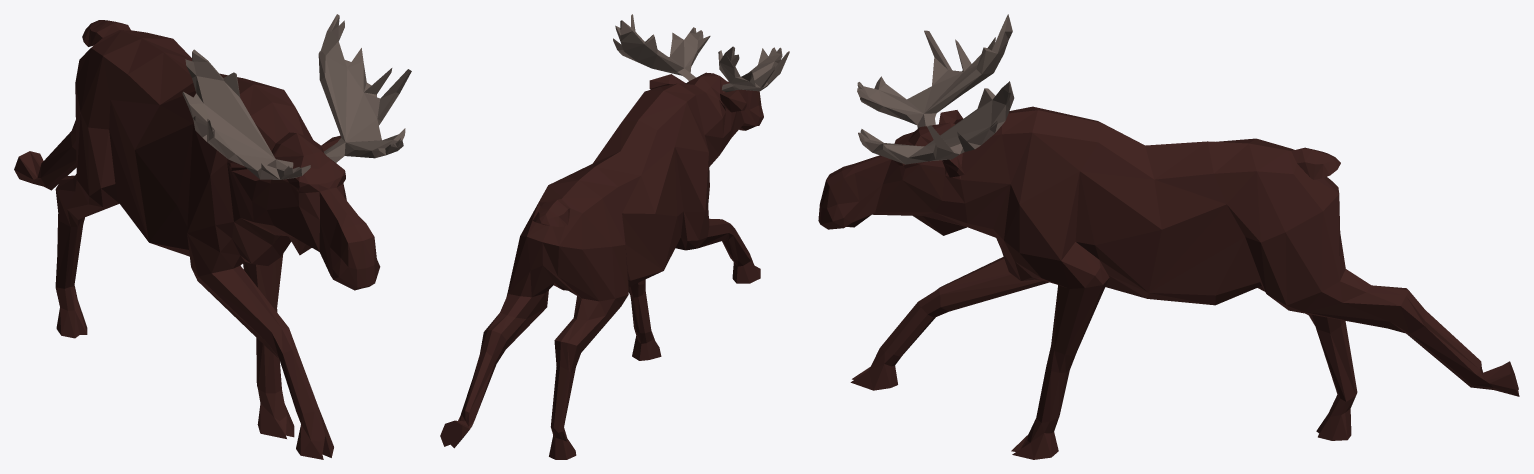
File: moose_colorMap3.obj
3 views of the same model, side by side, from view 1: azimuth 30°, elevation 25°; view 2: azimuth 150°, elevation 25°; view 3: azimuth 270°, elevation 25° (orthographic). The views are drawn at different scales.
Parts seen in each view (by area): view 1: Mesh.002_comp_moose_rig1:m.000, Mesh.001_comp_moose_rig1:moose; view 2: Mesh.002_comp_moose_rig1:m.000, Mesh.001_comp_moose_rig1:moose; view 3: Mesh.002_comp_moose_rig1:m.000, Mesh.001_comp_moose_rig1:moose.
Boxes of the visible parts, box(x1,y1,x2,y2) form: Mesh.002_comp_moose_rig1:m.000: box(14, 20, 380, 459); Mesh.001_comp_moose_rig1:moose: box(182, 14, 411, 179); Mesh.002_comp_moose_rig1:m.000: box(440, 72, 763, 459); Mesh.001_comp_moose_rig1:moose: box(613, 14, 789, 92); Mesh.002_comp_moose_rig1:m.000: box(818, 106, 1519, 459); Mesh.001_comp_moose_rig1:moose: box(857, 14, 1014, 164).
Size of the model in its own units: 122 by 239 by 381.
